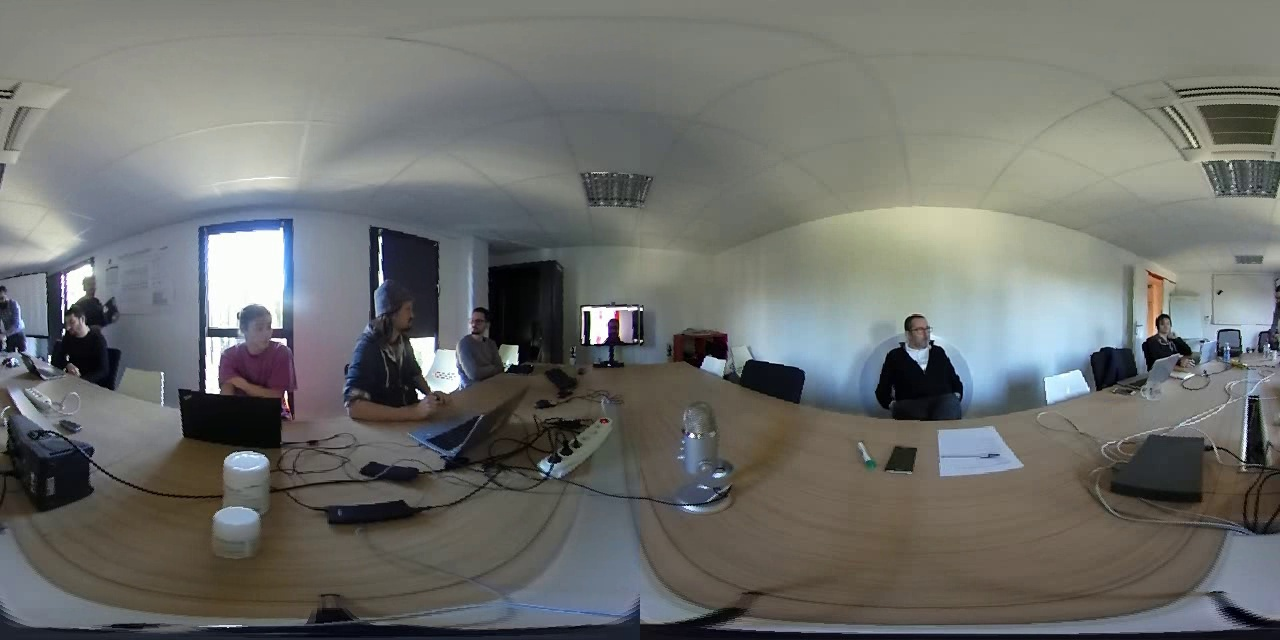person: (331, 271, 428, 426), (202, 295, 307, 404), (875, 309, 970, 423), (446, 294, 516, 374), (51, 306, 105, 371), (1138, 306, 1196, 365), (58, 266, 120, 309), (2, 288, 34, 350), (587, 310, 637, 342)
